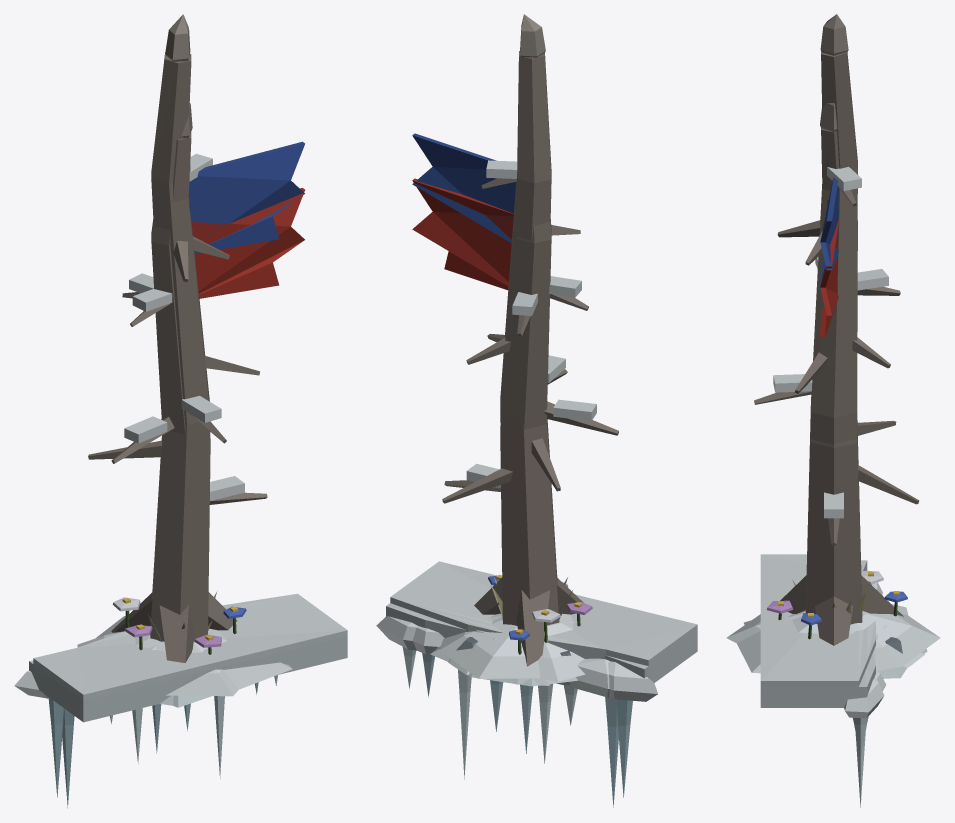
Rendered from peaks.glb.
The picture shows the model from 3 angles, left to right: view 1: azimuth 30°, elevation 25°; view 2: azimuth 150°, elevation 25°; view 3: azimuth 270°, elevation 25°; orthographic projection. The views are drawn at different scales.
Parts seen in each view (by area): view 1: peaks_dead_pine_snag_b, peaks_snow_cornice_b, peaks_dead_pine_snag_a, peaks_expedition_flag_b, peaks_snow_cornice_a, peaks_expedition_flag_a, peaks_alpine_flowers_a, peaks_alpine_flowers_b; view 2: peaks_dead_pine_snag_b, peaks_snow_cornice_b, peaks_dead_pine_snag_a, peaks_expedition_flag_a, peaks_snow_cornice_a, peaks_expedition_flag_b, peaks_alpine_flowers_b; view 3: peaks_dead_pine_snag_a, peaks_dead_pine_snag_b, peaks_snow_cornice_b, peaks_snow_cornice_a, peaks_expedition_flag_b, peaks_expedition_flag_a, peaks_alpine_flowers_b, peaks_alpine_flowers_a.
Part boxes in pixels (x1,y1,x2,y2): peaks_dead_pine_snag_b: (77, 14, 292, 689); peaks_snow_cornice_b: (14, 593, 347, 797); peaks_dead_pine_snag_a: (88, 102, 267, 696); peaks_expedition_flag_b: (150, 141, 304, 649); peaks_snow_cornice_a: (29, 636, 347, 808); peaks_expedition_flag_a: (189, 188, 304, 298); peaks_alpine_flowers_a: (112, 597, 221, 654); peaks_alpine_flowers_b: (124, 606, 246, 650); peaks_dead_pine_snag_b: (442, 14, 618, 681); peaks_snow_cornice_b: (376, 561, 697, 797); peaks_dead_pine_snag_a: (439, 219, 588, 678); peaks_expedition_flag_a: (412, 178, 571, 656); peaks_snow_cornice_a: (386, 603, 697, 807); peaks_expedition_flag_b: (412, 133, 574, 650); peaks_alpine_flowers_b: (488, 574, 592, 654); peaks_dead_pine_snag_a: (726, 103, 940, 670); peaks_dead_pine_snag_b: (737, 14, 919, 673); peaks_snow_cornice_b: (760, 554, 884, 807); peaks_snow_cornice_a: (760, 560, 886, 757); peaks_expedition_flag_b: (820, 154, 902, 653); peaks_expedition_flag_a: (820, 199, 887, 633); peaks_alpine_flowers_b: (801, 591, 907, 639); peaks_alpine_flowers_a: (766, 570, 883, 619).
Size of the model in its own units: 0.9801 by 2.56 by 0.6449.
